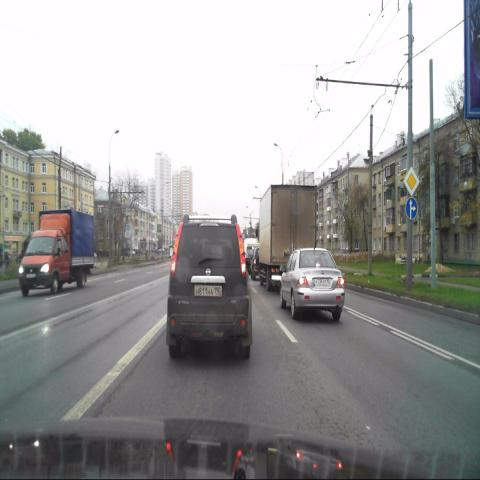4_1_4: (406, 196, 418, 221)
